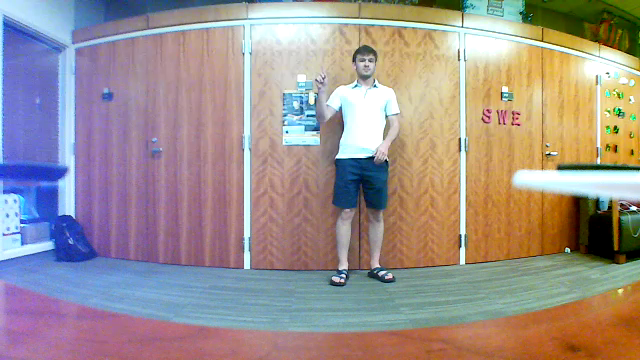up: (312, 61, 331, 92)
